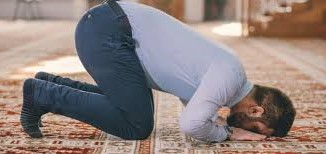sujud: (18, 2, 316, 142)
